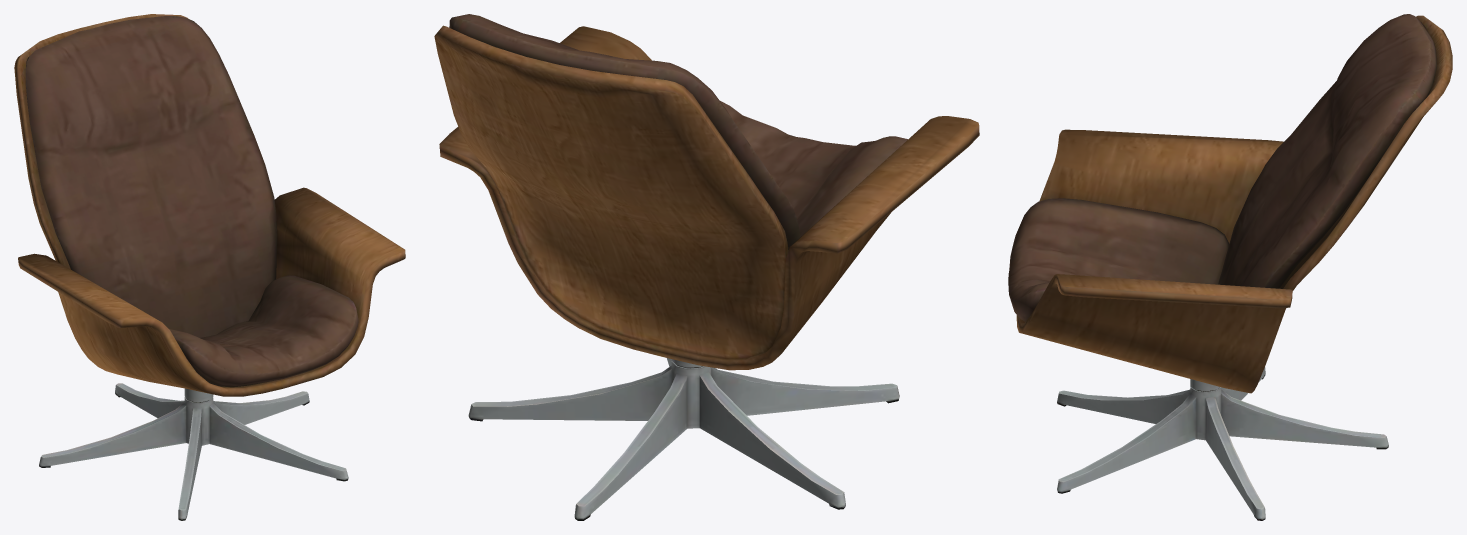
Rendered from mid_century_lounge_chair.glb.
3 views of the same model, side by side, from view 1: azimuth 30°, elevation 25°; view 2: azimuth 150°, elevation 25°; view 3: azimuth 270°, elevation 25° (orthographic). The views are drawn at different scales.
Visible parts, largest first — view 1: mid_century_lounge_chair; view 2: mid_century_lounge_chair; view 3: mid_century_lounge_chair.
Part boxes in pixels (box(x1,y1,x2,y2)): mid_century_lounge_chair: box(14, 14, 405, 520); mid_century_lounge_chair: box(434, 14, 979, 520); mid_century_lounge_chair: box(1008, 14, 1452, 520).
Size of the model in its own units: 1.01 by 1.17 by 1.19.
Materials: 1 (1 with a texture image).
